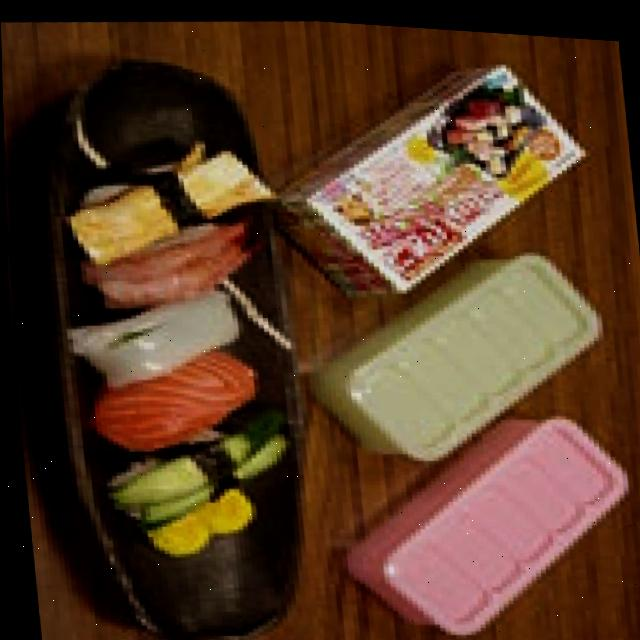寿司卷物: (2, 101, 325, 602)
